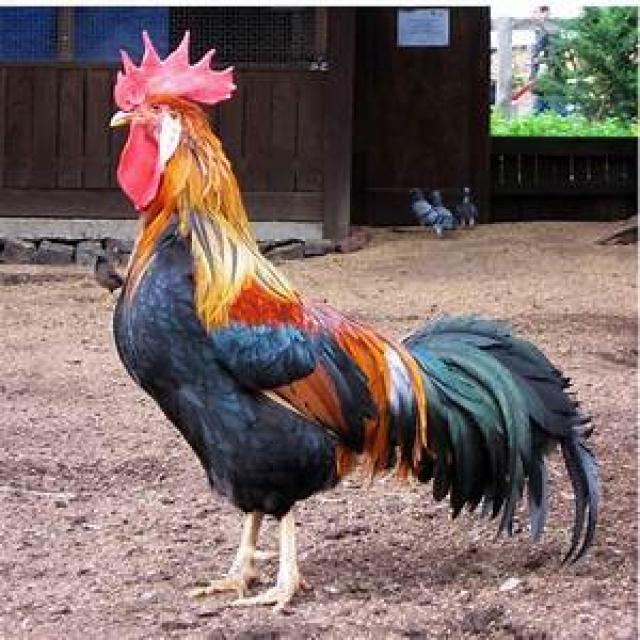hen: (111, 32, 602, 610)
